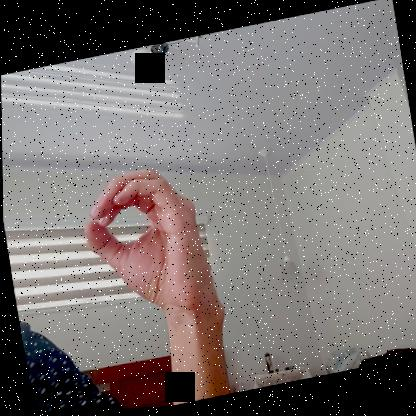O: (73, 154, 219, 333)
